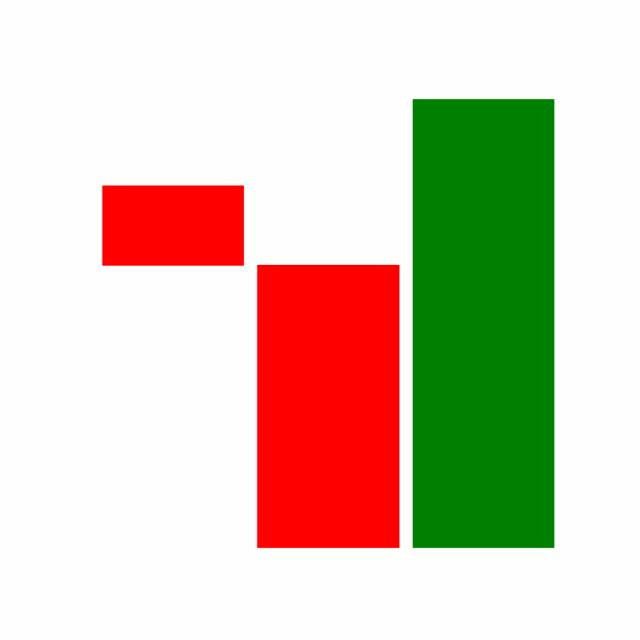Marubozu: (249, 261, 406, 550)
